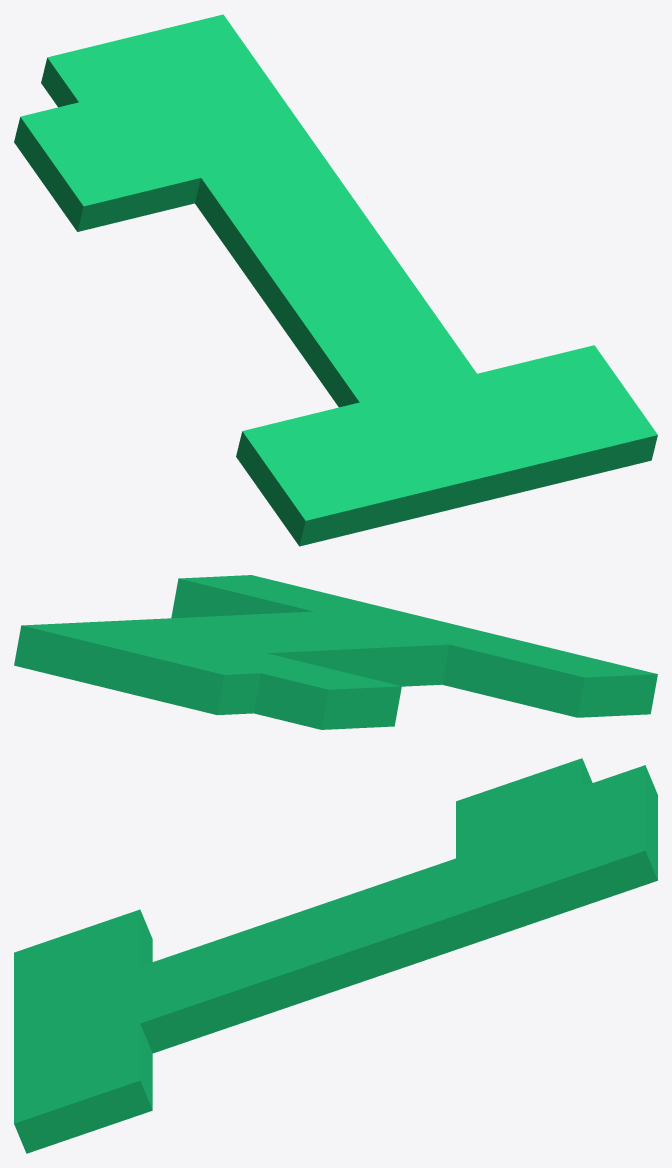
The model's file is hankyeong attack 1 (1).fbx.
3 views of the same model, one above another, from view 1: azimuth 30°, elevation 25°; view 2: azimuth 150°, elevation 25°; view 3: azimuth 270°, elevation 25° (orthographic). The views are drawn at different scales.
Visible parts, largest first — view 1: Text.001; view 2: Text.001; view 3: Text.001.
Boxes of the visible parts, x1,y1,x2,y2 form: Text.001: (14,14,657,546); Text.001: (14,575,657,729); Text.001: (14,758,657,1153).
Bounding box in the file's own units: 74.2 × 49.77 × 118.
